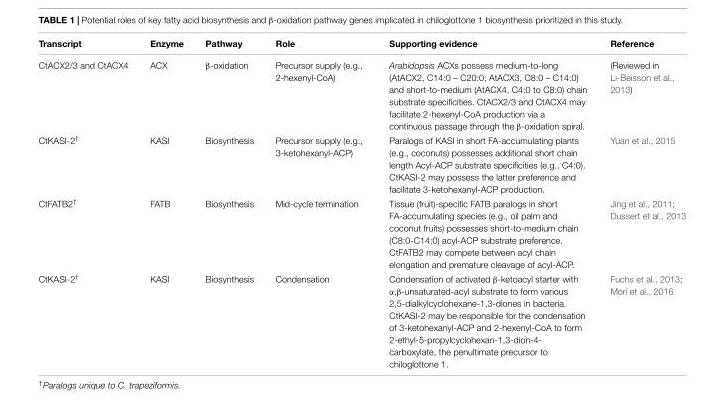table: (37, 37, 685, 368)
table column: (375, 37, 597, 368), (263, 37, 375, 368), (37, 37, 138, 368), (597, 37, 685, 368), (193, 37, 263, 368), (138, 37, 193, 368)
table column header: (37, 37, 685, 53)
table row: (37, 270, 685, 368), (37, 53, 685, 131), (37, 195, 685, 270), (37, 131, 685, 195), (37, 37, 685, 53)
